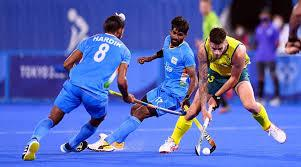ball: (201, 145, 215, 158)
